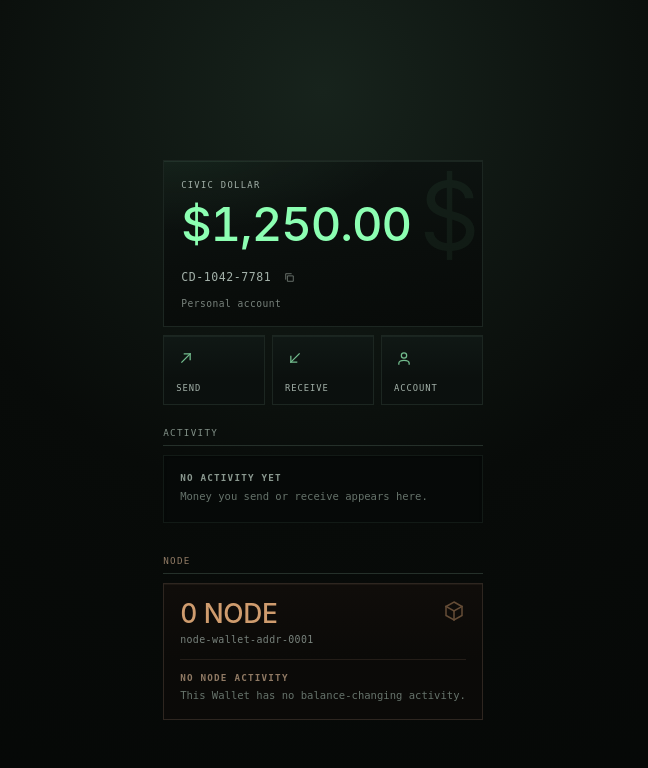
Wallet NODE section › puts NODE away while a focused Dollar task is open and brings it back afterwards
Expected: the element named "NODE wallet" is shown, [163,555,483,720]
Click the button "SEND" at (214, 370), box [163,335,265,405]
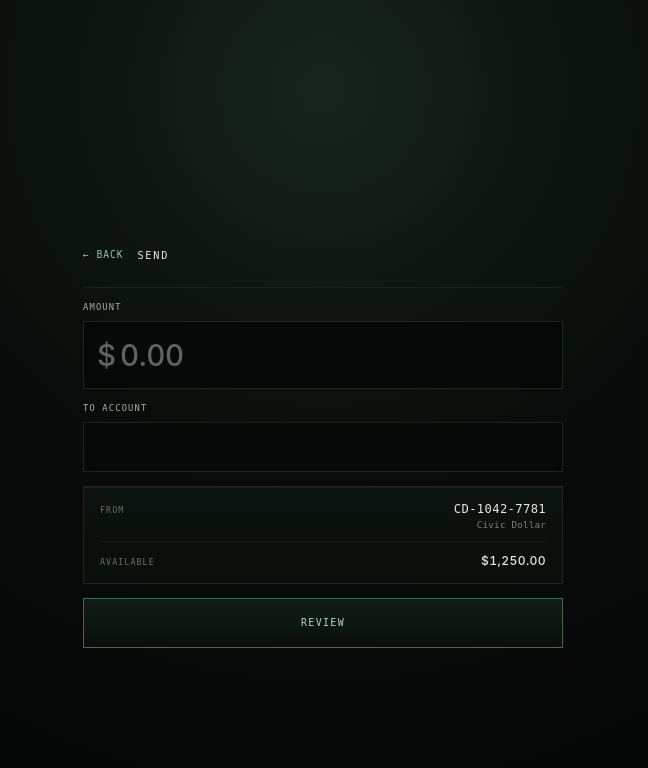
Click the button "← BACK" at (103, 254), box [83,232,123,276]
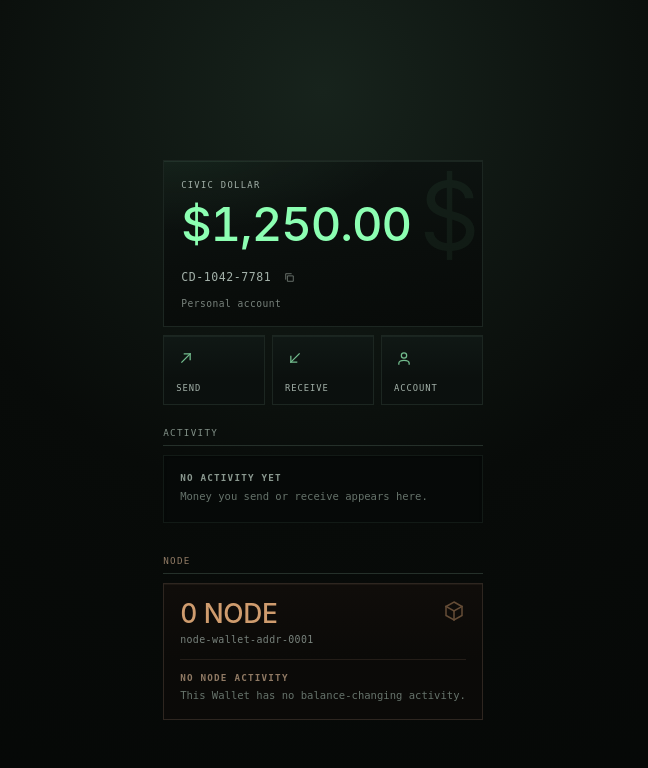
Expected: the element named "NODE wallet" is shown, [163,555,483,720]
Click the button "ACCOUNT" at (432, 370), box [381,335,483,405]
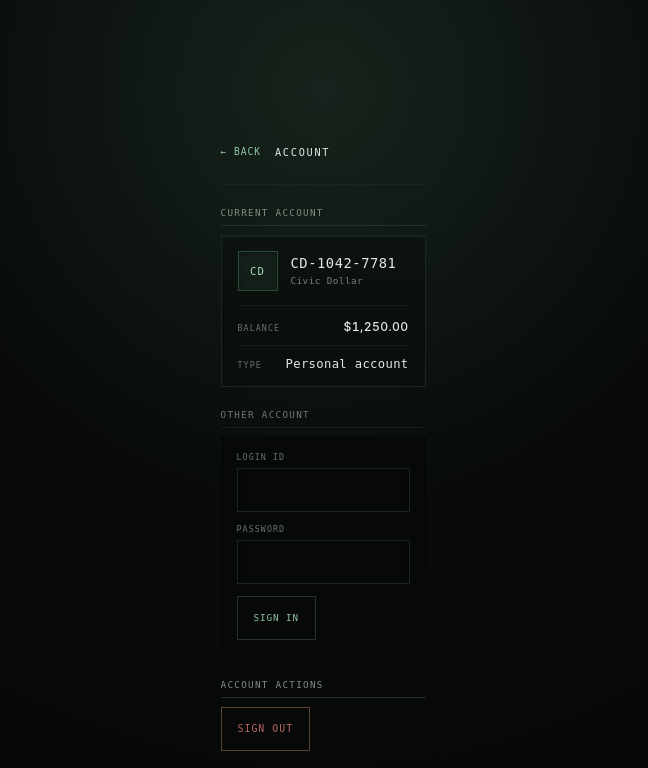
Click the button "← BACK" at (241, 152), box [220,130,261,174]
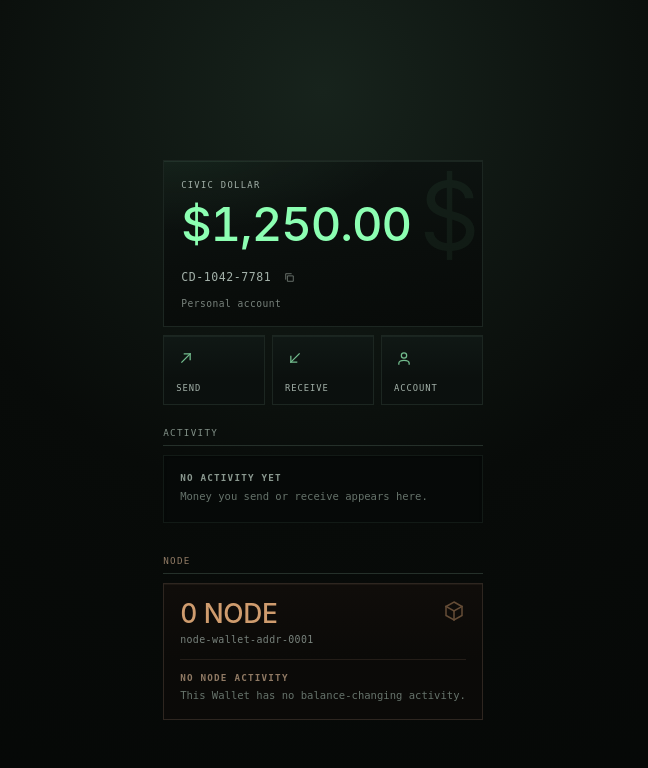
Expected: the element named "NODE wallet" is shown, [163,555,483,720]
